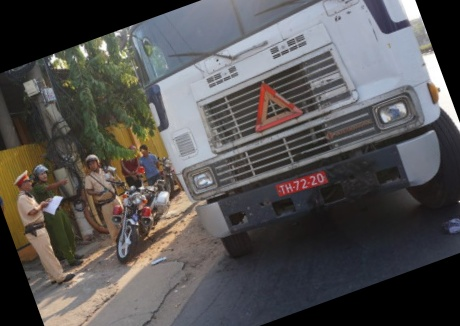plate: (274, 169, 325, 200)
